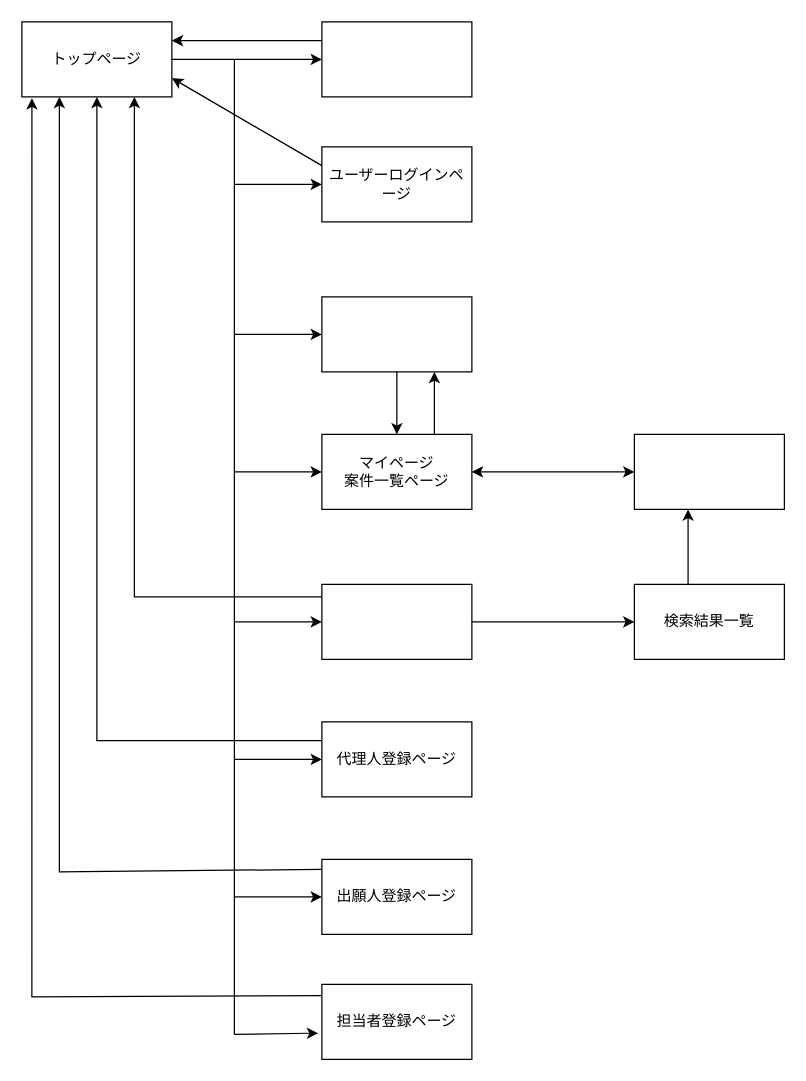
Image size: 806x1081. Some labels were removed from this diagram. Each missing label, with the box of its shape:
ユーザー新規登録ページ: (321, 21, 472, 97)
案件登録: (321, 296, 472, 372)
案件詳細: (633, 433, 784, 509)
検索ページ: (321, 583, 472, 659)
